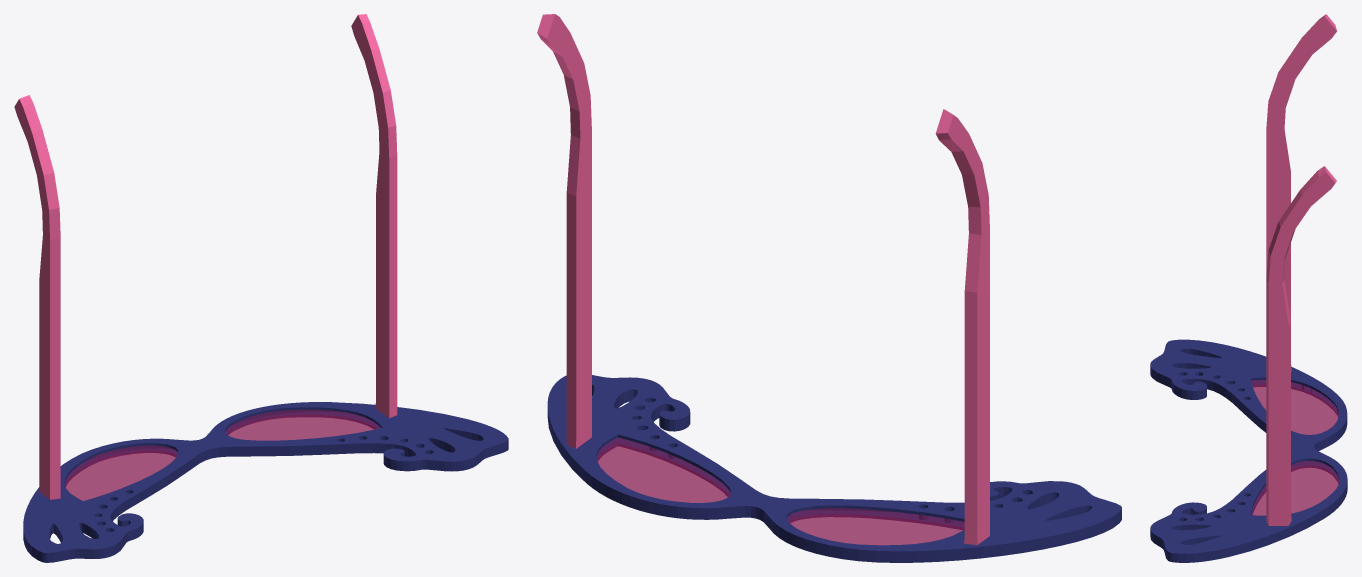
Rendered from asset.glb.
3 renders of one model, left to right at view 1: azimuth 30°, elevation 25°; view 2: azimuth 150°, elevation 25°; view 3: azimuth 270°, elevation 25°, orthographic. The views are drawn at different scales.
Parts seen in each view (by area): view 1: Asset3DLoader.sceneRoot; view 2: Asset3DLoader.sceneRoot; view 3: Asset3DLoader.sceneRoot.
Boxes of the visible parts, x1,y1,x2,y2 form: Asset3DLoader.sceneRoot: (14, 14, 508, 562); Asset3DLoader.sceneRoot: (537, 14, 1121, 562); Asset3DLoader.sceneRoot: (1150, 14, 1347, 562).
Bounding box in the file's own units: 174 × 138 × 67.68.
